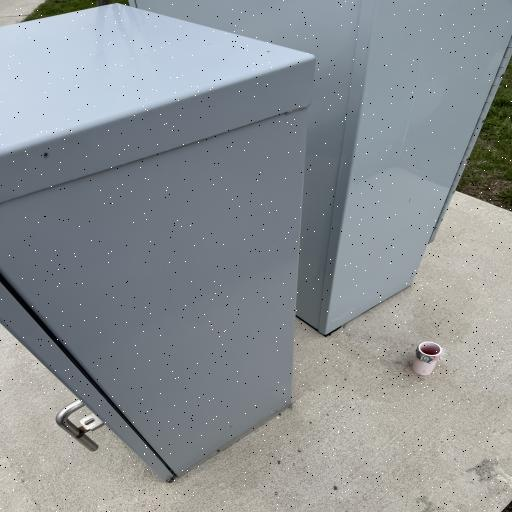Electrical Box: (1, 4, 317, 480)
